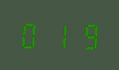nine: (73, 20, 99, 50)
one: (46, 19, 72, 50)
zero: (18, 19, 44, 49)
